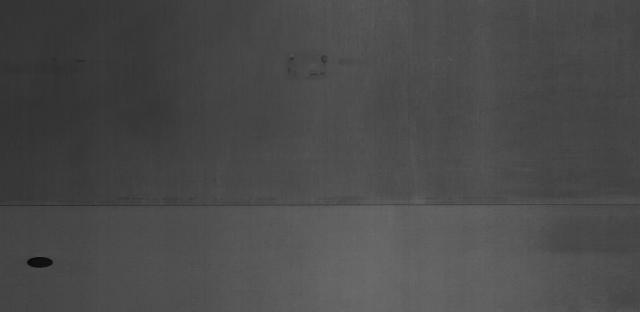punching_hole: (19, 253, 64, 273)
welding_line: (0, 192, 632, 221)
